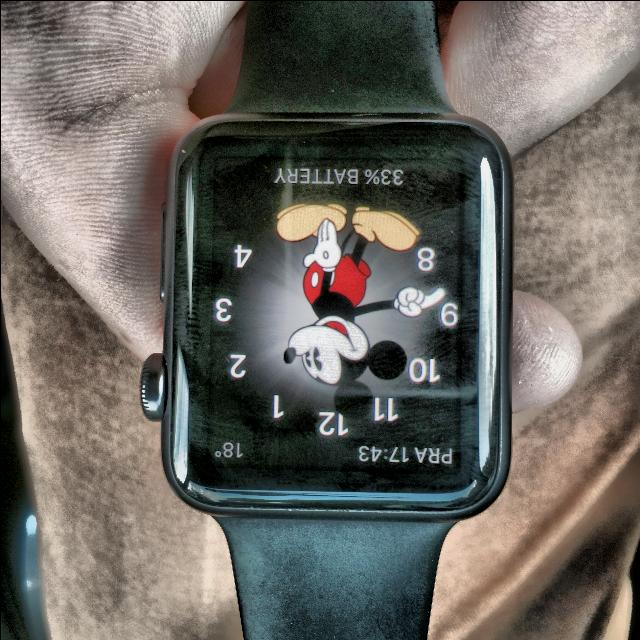Electronic watch: (140, 0, 512, 640)
